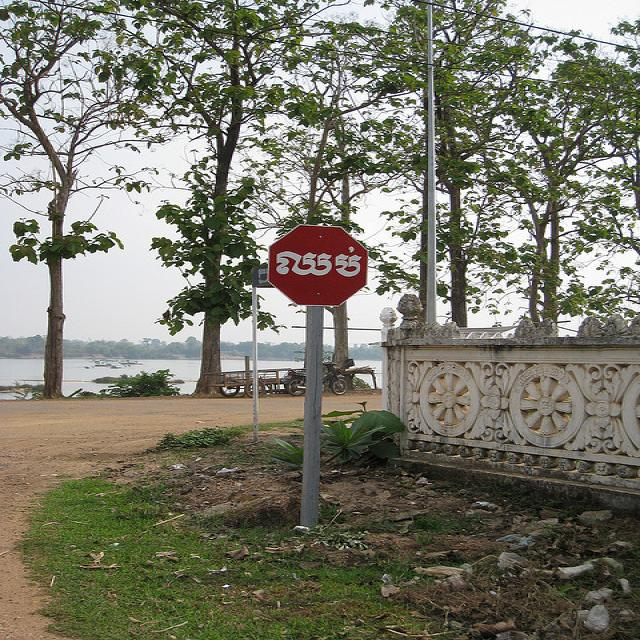motor: (285, 362, 348, 396)
